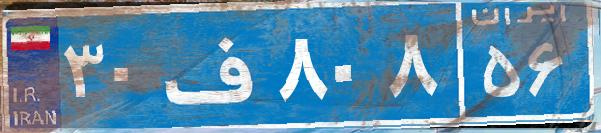0: (330, 28, 385, 110), (110, 28, 158, 105)
3: (57, 26, 110, 107)
5: (475, 38, 525, 113)
6: (525, 38, 570, 115)
8: (385, 28, 445, 110), (273, 28, 330, 110)
ف: (158, 15, 273, 115)
